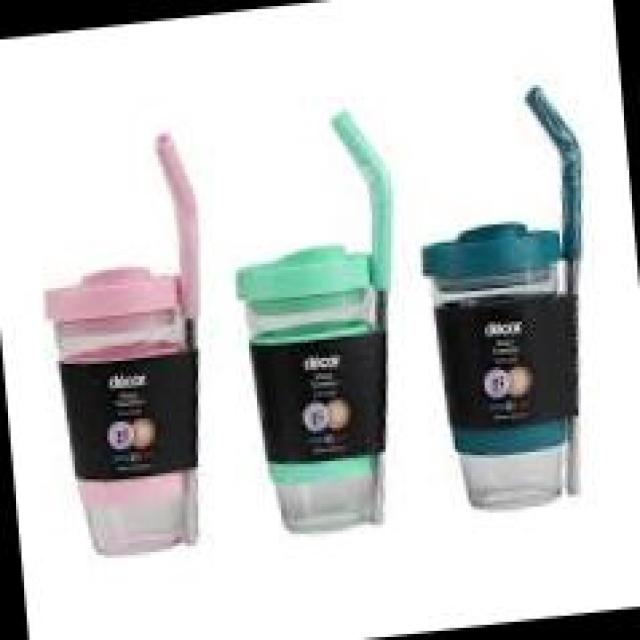bottle: (217, 102, 426, 548), (399, 74, 608, 520), (27, 123, 235, 566)
